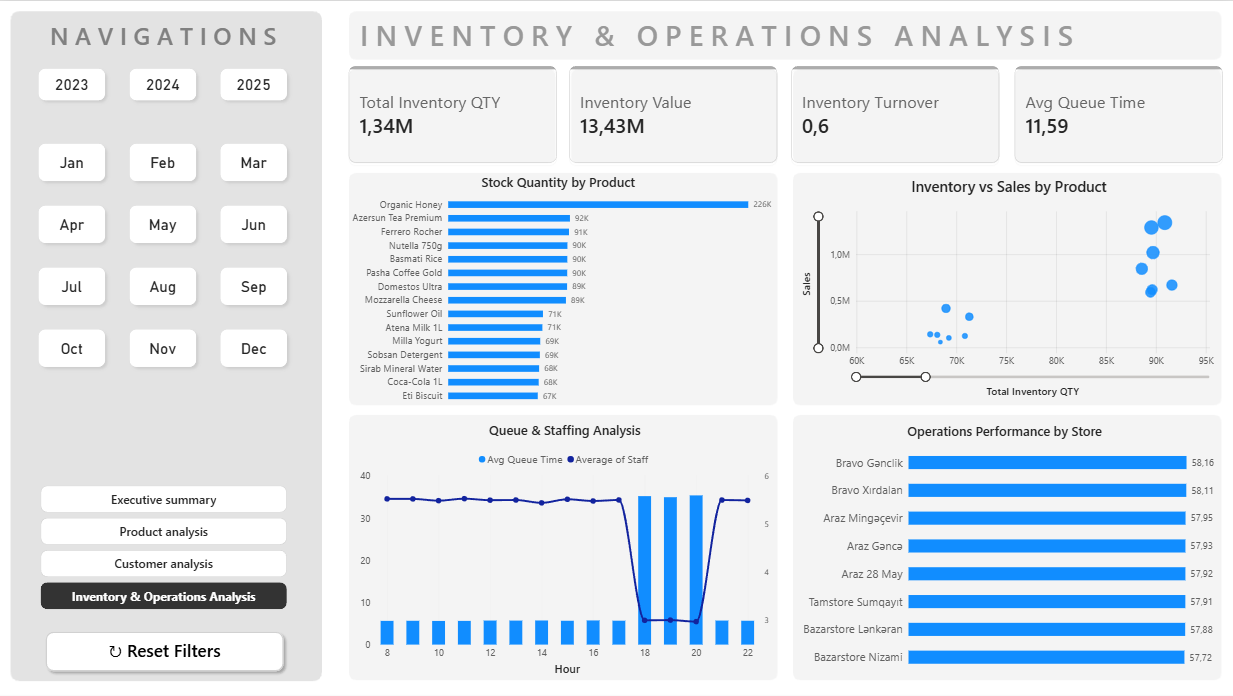

What the dashboard file says about the page in this screenshot:
{"tool":"powerbi","page":{"name":"Inventory & Operations Analysis","canvas":[1920,1080],"ordinal":3},"visuals":[{"type":"advancedSlicerVisual","fields":{"Values":["DimDate.MonthName"]},"box":[32.5,210,450,372.5],"z":0},{"type":"advancedSlicerVisual","fields":{"Values":["DimDate.Year"]},"box":[32.5,92.5,450,73.3],"z":1000},{"type":"textbox","box":[64.2,27.5,385,55.8],"z":2000},{"type":"textbox","box":[563.6,24.4,1119.9,58.6],"z":3000},{"type":"actionButton","box":[68.3,968.6,385,77.5],"z":4000},{"type":"cardVisual","fields":{"Data":["_Measures.Total Inventory QTY"]},"box":[539.2,95.2,334.3,161.8],"z":5000},{"type":"cardVisual","fields":{"Data":["_Measures.Inventory Value"]},"box":[882.4,94.3,334.3,161.8],"z":6000},{"type":"cardVisual","fields":{"Data":["_Measures.Inventory Turnover"]},"box":[1226.4,96,334.3,161.8],"z":7000},{"type":"cardVisual","fields":{"Data":["_Measures.Avg Queue Time"]},"box":[1572.9,94.3,334.3,161.8],"z":8000},{"type":"clusteredBarChart","title":"Stock Quantity by Product","fields":{"Category":["DimProduct.ProductName"],"Y":["_Measures.Total Inventory QTY"]},"box":[538.4,268.4,661.2,358.7],"z":9000},{"type":"scatterChart","title":"Inventory vs Sales by Product","fields":{"X":["_Measures.Total Inventory QTY"],"Category":["DimProduct.ProductName"],"Y":["_Measures.Sales"],"Size":["_Measures.Inventory Value"]},"box":[1230,257.5,677.5,367.5],"z":10000},{"type":"clusteredBarChart","title":"Operations Performance by Store","fields":{"Category":["DimStore.StoreName"],"Y":["Avg(FactOperations.CustomersServed)"]},"box":[1237.5,652.5,650,392.5],"z":11000},{"type":"lineClusteredColumnComboChart","title":"Queue & Staffing Analysis","fields":{"Category":["FactOperations.Hour"],"Y2":["Avg(FactOperations.StaffCount)"],"Y":["_Measures.Avg Queue Time"]},"box":[562.5,650,635,395],"z":12000},{"type":"pageNavigator","box":[67.5,750,382.5,195],"z":13000}]}

Visuals, with their boxes in screenshot pixels (x1, y1, x2, y2), scaled from the page's 1920x1080 canvas onto the 1233x696 screenshot:
advancedSlicerVisual - DimDate.MonthName: pyautogui.locateOnScreen(21, 135, 310, 375)
advancedSlicerVisual - DimDate.Year: pyautogui.locateOnScreen(21, 60, 310, 107)
textbox: pyautogui.locateOnScreen(41, 18, 288, 54)
textbox: pyautogui.locateOnScreen(362, 16, 1081, 53)
actionButton: pyautogui.locateOnScreen(44, 624, 291, 674)
cardVisual - _Measures.Total Inventory QTY: pyautogui.locateOnScreen(346, 61, 561, 166)
cardVisual - _Measures.Inventory Value: pyautogui.locateOnScreen(567, 61, 781, 165)
cardVisual - _Measures.Inventory Turnover: pyautogui.locateOnScreen(788, 62, 1002, 166)
cardVisual - _Measures.Avg Queue Time: pyautogui.locateOnScreen(1010, 61, 1225, 165)
"Stock Quantity by Product" clusteredBarChart: pyautogui.locateOnScreen(346, 173, 770, 404)
"Inventory vs Sales by Product" scatterChart: pyautogui.locateOnScreen(790, 166, 1225, 403)
"Operations Performance by Store" clusteredBarChart: pyautogui.locateOnScreen(795, 420, 1212, 673)
"Queue & Staffing Analysis" lineClusteredColumnComboChart: pyautogui.locateOnScreen(361, 419, 769, 673)
pageNavigator: pyautogui.locateOnScreen(43, 483, 289, 609)
